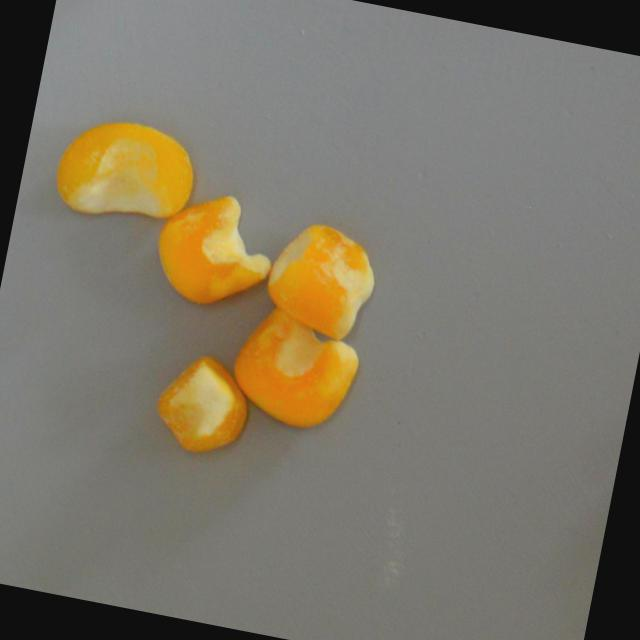no_desgerminado: (49, 108, 203, 234)
pelicula: (220, 296, 368, 440), (147, 182, 283, 319), (259, 212, 388, 346), (145, 343, 261, 464)
